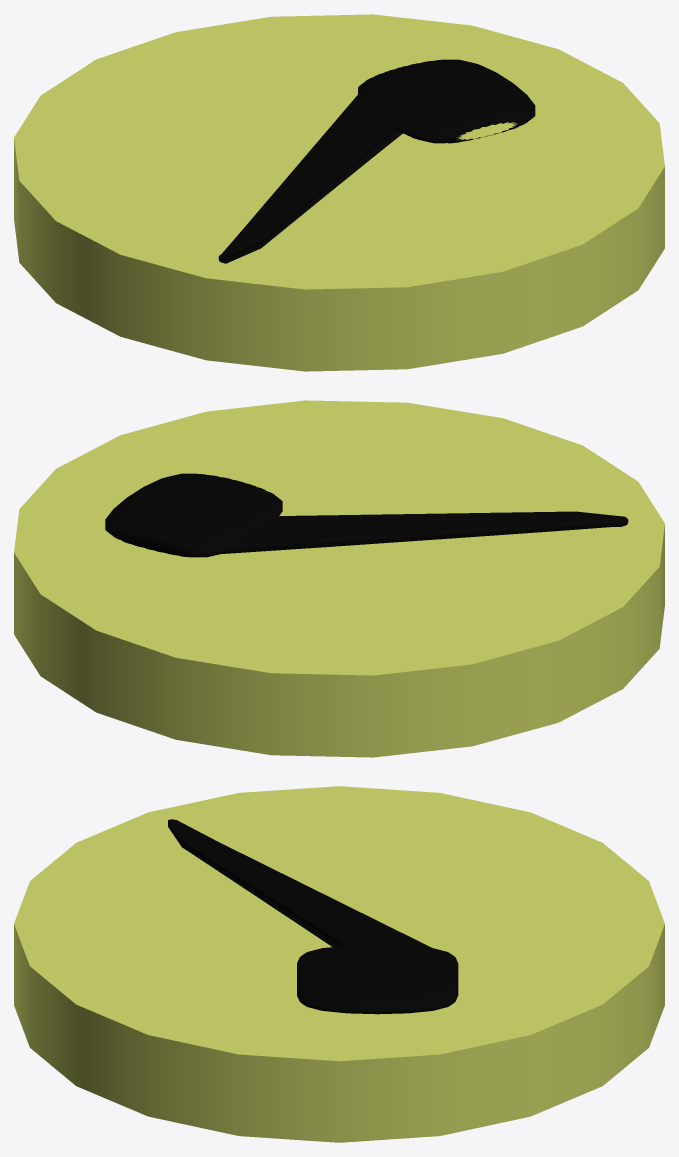
Rendered from characters.fbx.
3 renders of one model, top to bottom at view 1: azimuth 30°, elevation 25°; view 2: azimuth 150°, elevation 25°; view 3: azimuth 270°, elevation 25°, orthographic.
Visible parts, largest first — view 1: Characters; view 2: Characters; view 3: Characters.
Part boxes in pixels (bbox=[...]): Characters: bbox=[14, 14, 664, 371]; Characters: bbox=[14, 400, 664, 757]; Characters: bbox=[14, 786, 664, 1142].
Size of the model in its own units: 1.57 by 0.3353 by 1.57.
